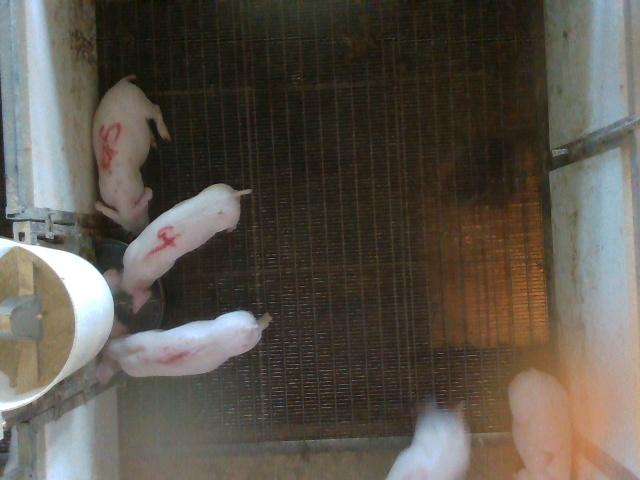pig-1: (98, 311, 271, 381)
pig-4: (104, 184, 249, 312)
pig-5: (92, 75, 171, 234)
